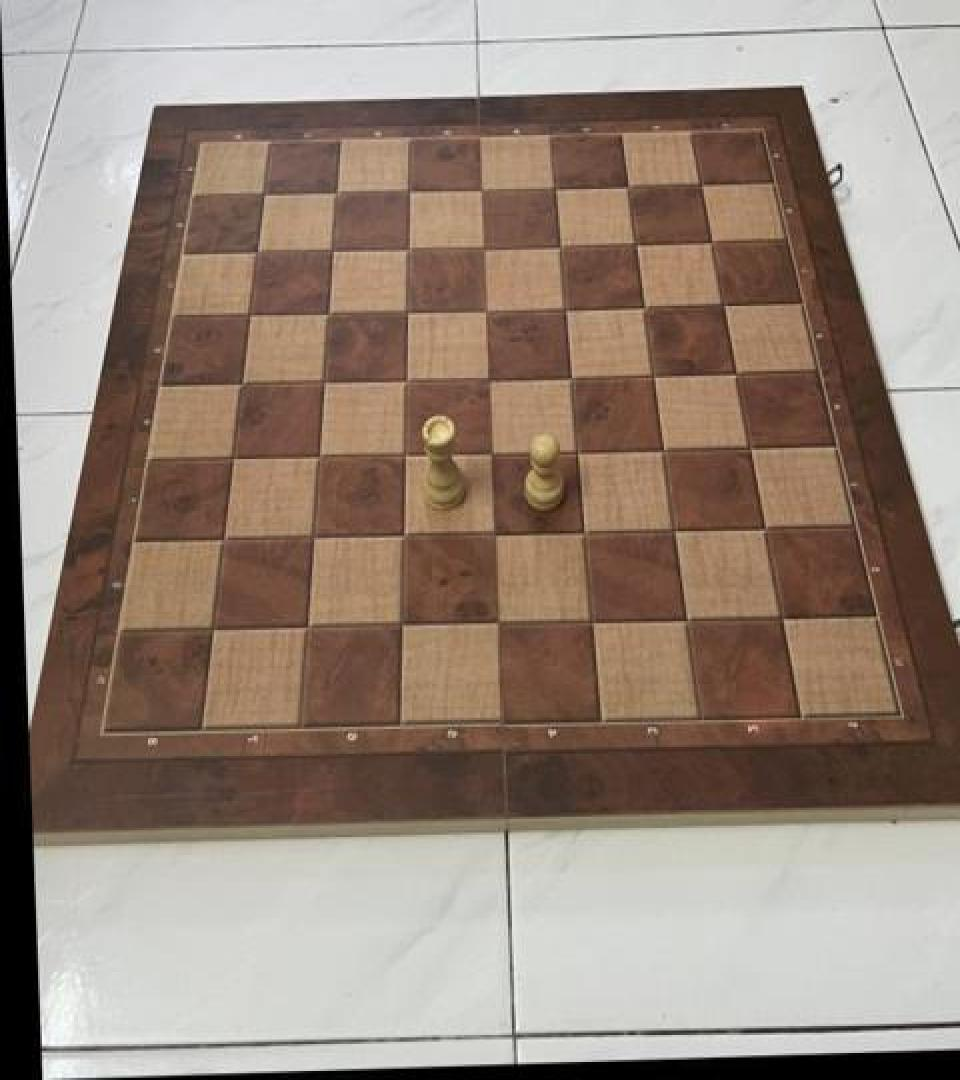xcorner: (250, 174, 284, 213), (394, 291, 428, 330), (639, 353, 673, 392), (305, 436, 339, 475), (388, 606, 422, 645), (323, 172, 357, 210), (396, 171, 430, 209), (469, 169, 503, 207), (541, 168, 575, 206), (614, 166, 648, 204), (686, 164, 720, 202), (243, 233, 277, 271), (319, 231, 353, 269), (395, 228, 429, 266), (471, 228, 505, 266), (546, 225, 580, 263), (622, 224, 656, 262), (697, 222, 731, 260), (236, 296, 270, 334), (315, 294, 349, 332), (473, 289, 507, 327), (551, 288, 585, 326), (630, 286, 664, 324), (708, 284, 742, 322), (227, 364, 261, 402), (310, 362, 344, 400), (393, 360, 427, 398), (475, 358, 509, 396), (557, 356, 591, 394), (721, 351, 755, 389), (218, 439, 252, 477), (391, 434, 425, 472), (478, 432, 512, 470), (564, 430, 598, 468), (649, 428, 683, 466), (735, 426, 769, 464), (208, 522, 242, 560), (299, 519, 333, 557), (390, 516, 424, 554), (480, 514, 514, 552), (570, 512, 604, 550), (660, 508, 694, 546), (750, 506, 784, 544), (198, 612, 232, 650), (293, 610, 327, 648), (483, 604, 517, 642), (578, 601, 612, 639), (672, 598, 706, 636), (767, 595, 801, 633)
